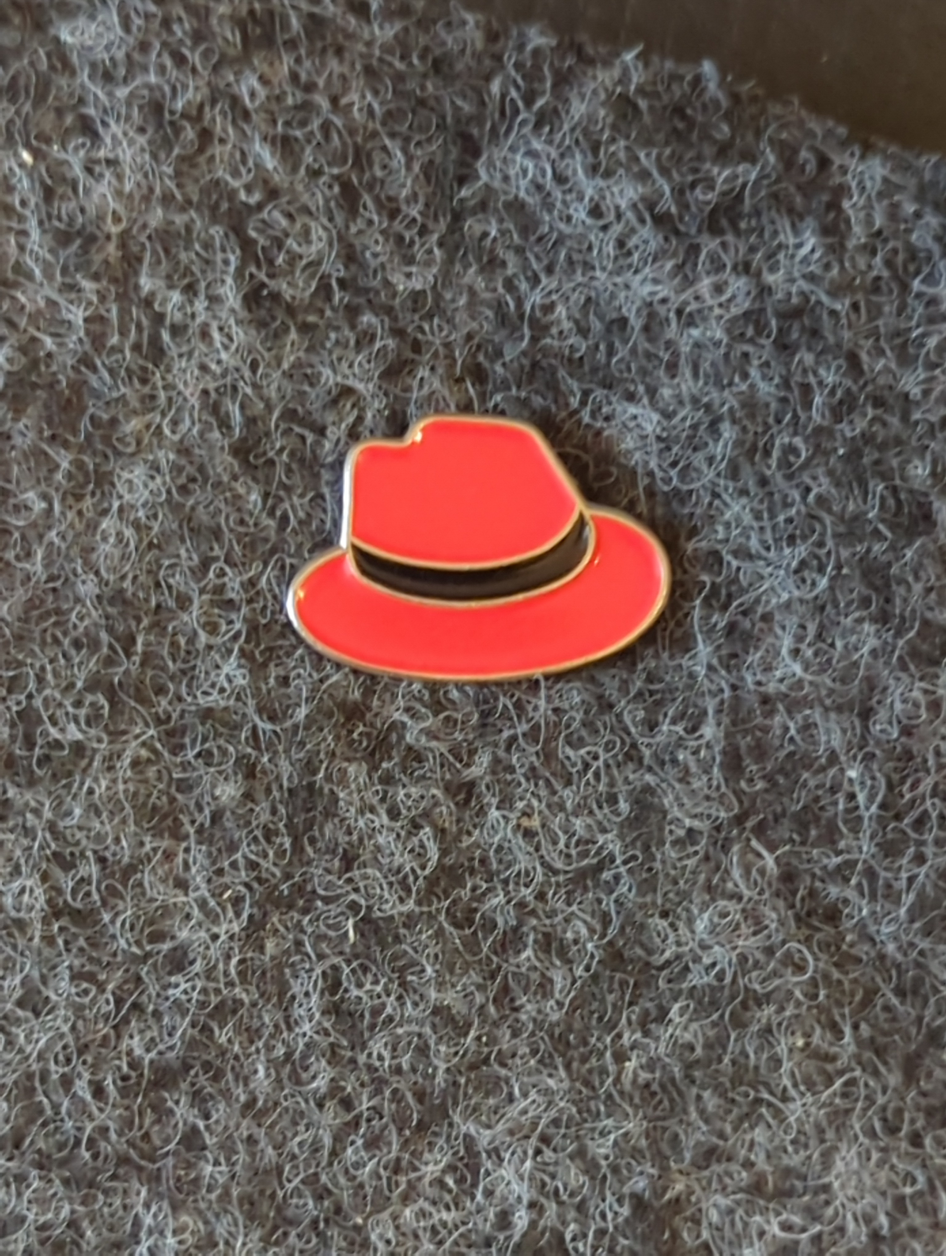Red-Hat: (180, 341, 777, 743)
